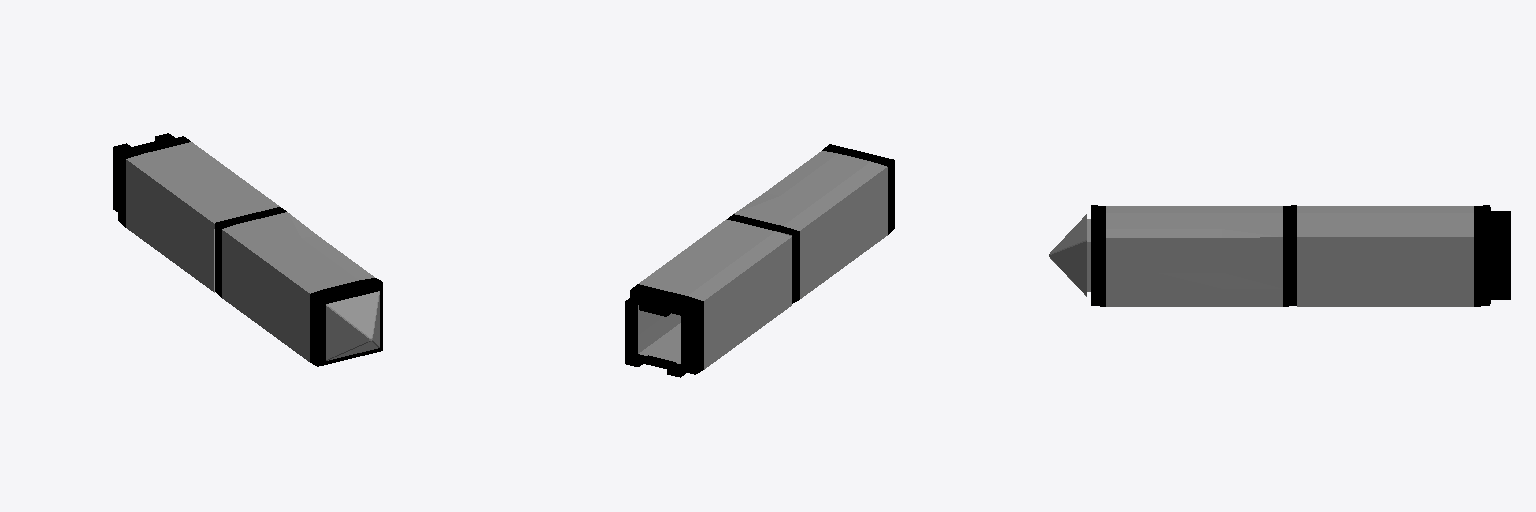
The model's file is skyscraper_windowC_02.obj.
3 renders of one model, left to right at view 1: azimuth 30°, elevation 25°; view 2: azimuth 150°, elevation 25°; view 3: azimuth 270°, elevation 25°, orthographic.
Visible parts, largest first — view 1: Object41; view 2: Object41; view 3: Object41.
Boxes of the visible parts, <box> form: Object41: <box>113,133,382,366</box>; Object41: <box>625,144,894,377</box>; Object41: <box>1049,205,1510,306</box>.
Bounding box in the file's own units: 40.09 × 40.67 × 243.